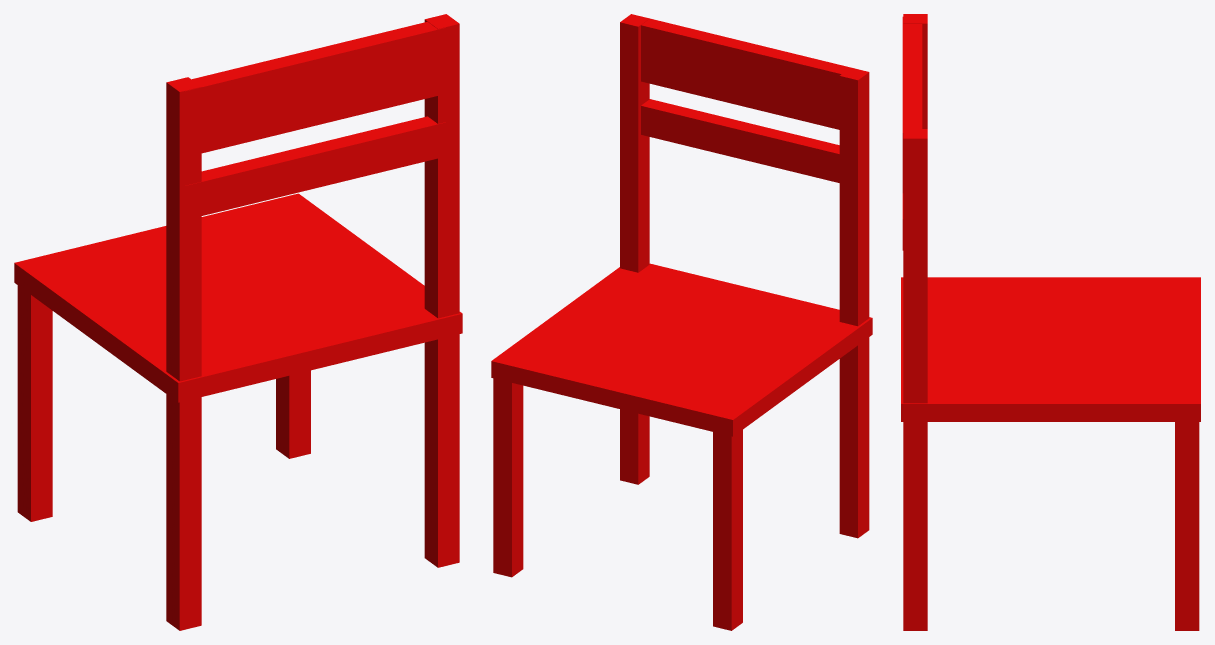
The model's file is bad chair.fbx.
The picture shows the model from 3 angles, left to right: view 1: azimuth 30°, elevation 25°; view 2: azimuth 150°, elevation 25°; view 3: azimuth 270°, elevation 25°; orthographic projection. The views are drawn at different scales.
Parts seen in each view (by area): view 1: chair; view 2: chair; view 3: chair.
Part boxes in pixels (<box>): chair: <box>14,14,462,630</box>; chair: <box>491,14,872,630</box>; chair: <box>901,14,1200,630</box>.
Bounding box in the file's own units: 2.93 × 5.31 × 2.93.
Materials: 1 (1 with a texture image).
